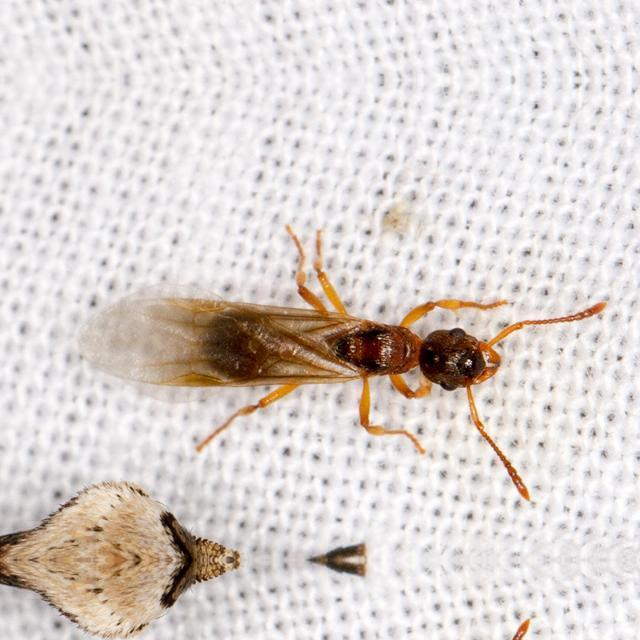Myrmica: (120, 194, 640, 492)
